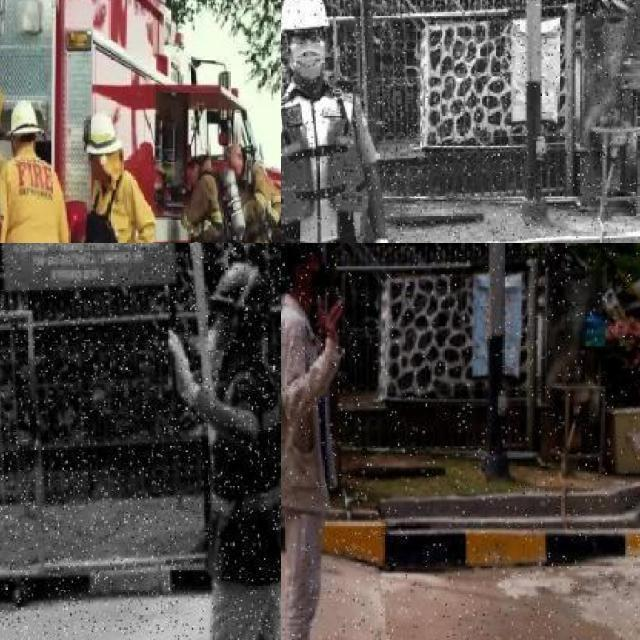apron: (162, 324, 200, 409)
